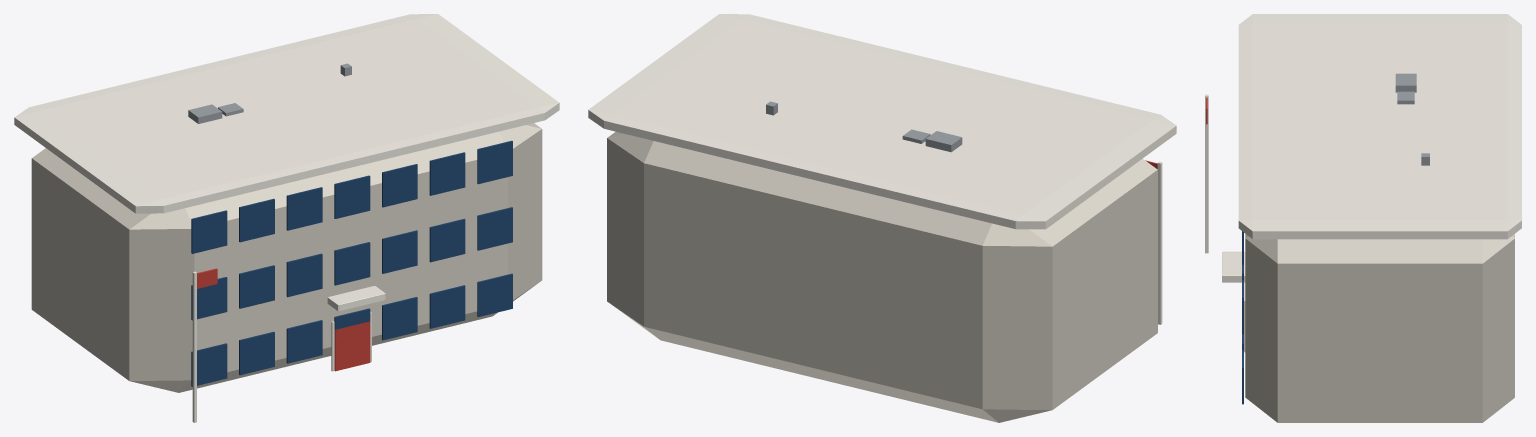
Rendered from school_l.glb.
3 renders of one model, left to right at view 1: azimuth 30°, elevation 25°; view 2: azimuth 150°, elevation 25°; view 3: azimuth 270°, elevation 25°, orthographic. The views are drawn at different scales.
Visible parts, largest first — view 1: walls, cornice, door, win.009, win.016, win.017, win.010, win.012, win.014, win.002, win.005, win.019 (+14 smaller); view 2: walls, cornice, flagpole, hvac; view 3: cornice, walls, entry, flagpole, hvac.
Boxes of the visible parts, box(x1,y1,x2,y2) form: walls: box(31, 123, 542, 392); cornice: box(14, 14, 559, 213); door: box(334, 321, 370, 371); win.009: box(286, 253, 322, 297); win.016: box(286, 187, 322, 230); win.017: box(334, 175, 370, 218); win.010: box(334, 242, 370, 285); win.012: box(429, 218, 465, 262); win.014: box(191, 210, 227, 253); win.002: box(286, 320, 322, 363); win.005: box(429, 285, 465, 328); win.019: box(429, 152, 465, 195); walls: box(607, 131, 1157, 422); cornice: box(588, 14, 1176, 229); flagpole: box(1157, 161, 1162, 324); hvac: box(925, 131, 962, 152); cornice: box(1238, 14, 1521, 239); walls: box(1245, 234, 1514, 422); entry: box(1222, 251, 1245, 282); flagpole: box(1205, 94, 1208, 253); hvac: box(1395, 73, 1416, 92).
Size of the model in its own units: 26.7 by 13.1 by 16.44.
